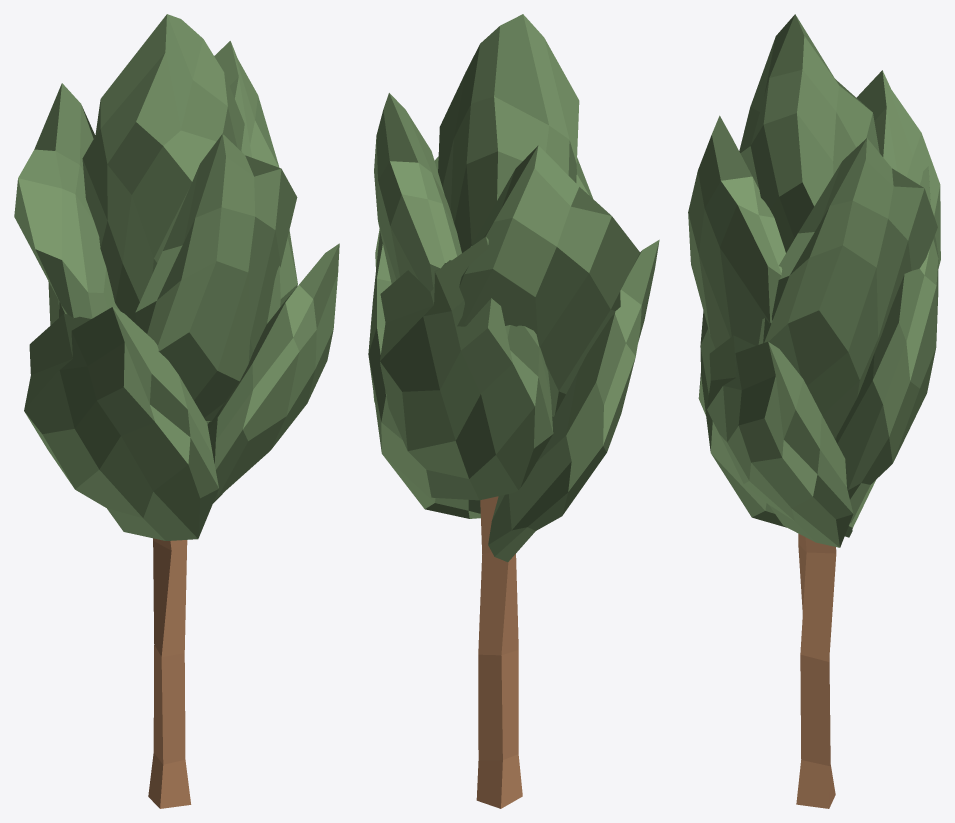
Rendered from ArbolT4.fbx.
3 renders of one model, left to right at view 1: azimuth 30°, elevation 25°; view 2: azimuth 150°, elevation 25°; view 3: azimuth 270°, elevation 25°, orthographic. The views are drawn at different scales.
Visible parts, largest first — view 1: Cube, Cube.006, Cube.009, Cube.004, Cube.007, Arbol01, Cube.008; view 2: Cube.005, Cube.007, Cube.009, Cube, Arbol01, Cube.008, Cube.004; view 3: Cube.008, Cube.004, Cube.009, Cube.006, Cube.005, Arbol01, Cube.007, Cube.
Boxes of the visible parts, x1,y1,x2,y2 form: Cube: [24, 307, 218, 540]; Cube.006: [135, 134, 297, 421]; Cube.009: [82, 14, 244, 322]; Cube.004: [207, 243, 339, 503]; Cube.007: [14, 83, 120, 318]; Arbol01: [148, 538, 191, 808]; Cube.008: [206, 41, 297, 424]; Cube.005: [380, 236, 553, 500]; Cube.007: [457, 145, 639, 417]; Cube.009: [438, 14, 579, 252]; Cube: [488, 239, 659, 562]; Arbol01: [476, 496, 522, 808]; Cube.008: [374, 93, 461, 291]; Cube.004: [368, 229, 480, 518]; Cube.008: [758, 138, 937, 438]; Cube.004: [707, 335, 853, 547]; Cube.009: [739, 14, 879, 252]; Cube.006: [688, 115, 785, 348]; Cube.005: [835, 166, 938, 522]; Arbol01: [796, 533, 836, 808]; Cube.007: [856, 70, 940, 268]; Cube: [698, 311, 875, 537].
Size of the model in its own units: 1884 by 5014 by 1472.
